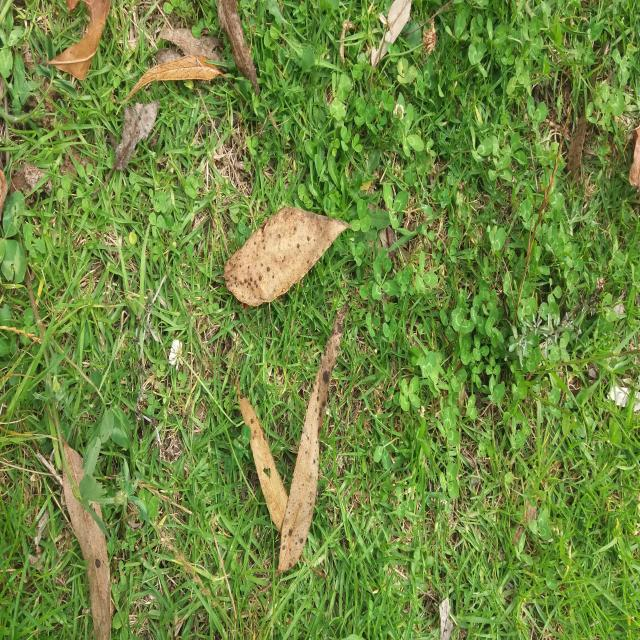Four Leaf Clover: (526, 104, 560, 157), (400, 376, 421, 411)
